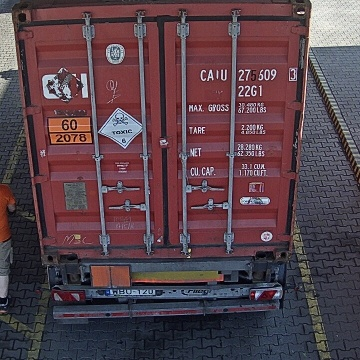serial_id: (200, 68, 297, 80)
